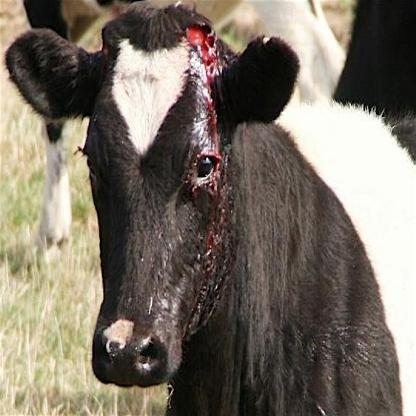cow: (9, 12, 416, 416)
injured: (174, 17, 249, 293)
